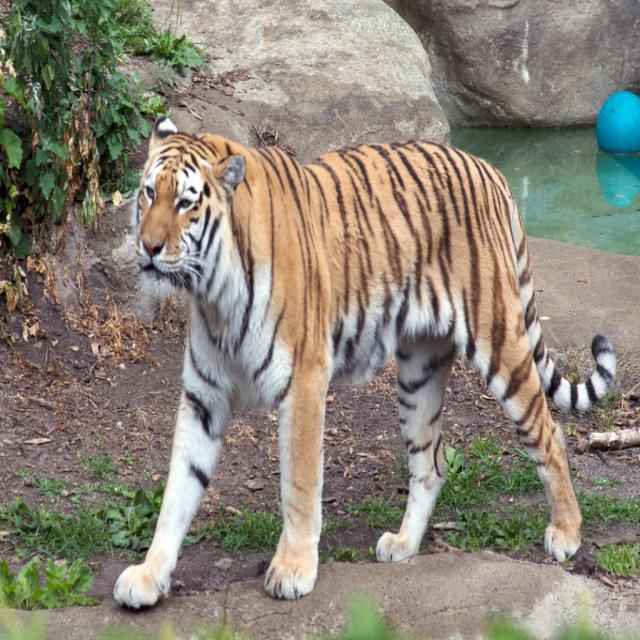Tiger: (114, 118, 616, 611)
